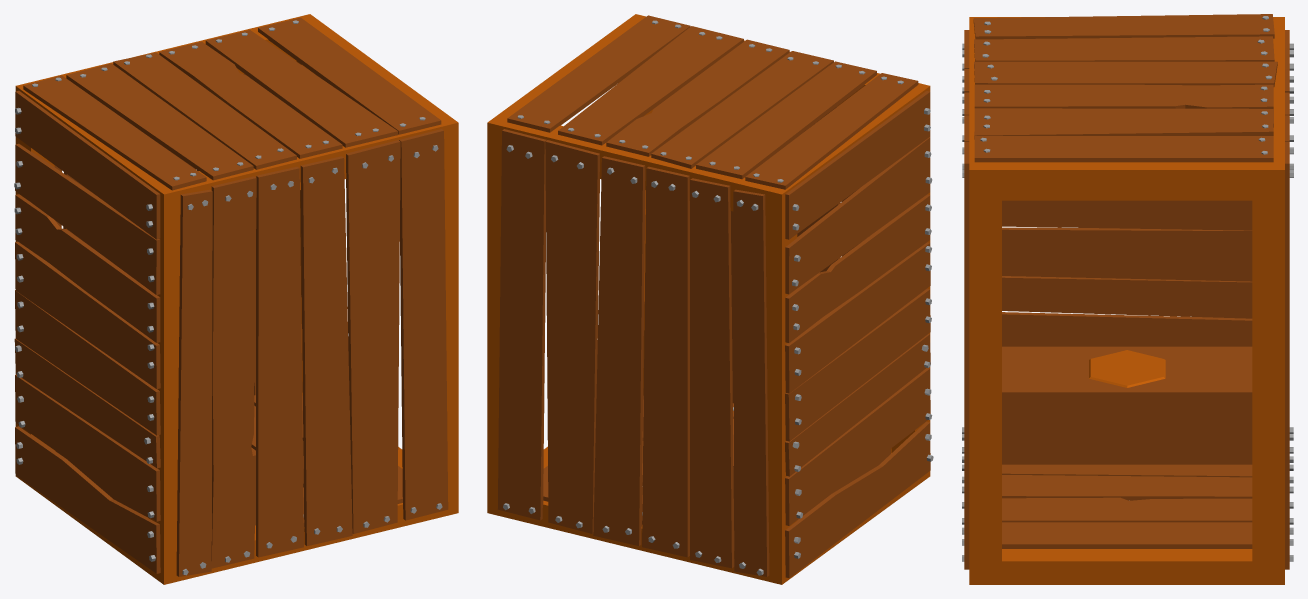
File: OutsideToilet.fbx
3 renders of one model, left to right at view 1: azimuth 30°, elevation 25°; view 2: azimuth 150°, elevation 25°; view 3: azimuth 270°, elevation 25°, orthographic. The views are drawn at different scales.
Visible parts, largest first — view 1: Cube.850; view 2: Cube.850; view 3: Cube.850.
Boxes of the visible parts, left/top/right/bottom form: Cube.850: left=14, top=14, right=458, bottom=584; Cube.850: left=487, top=14, right=933, bottom=584; Cube.850: left=962, top=14, right=1293, bottom=584.
Bounding box in the file's own units: 688 × 860 × 615.
